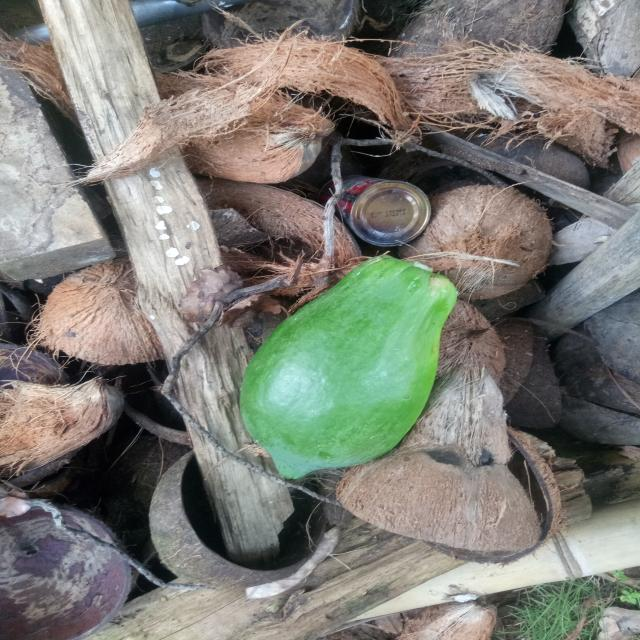Pepaya unrippen: (209, 255, 460, 478)
